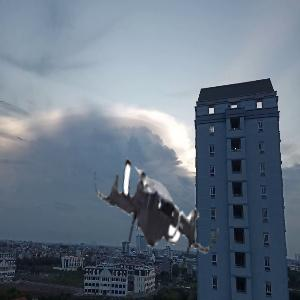drone: (82, 142, 226, 286)
